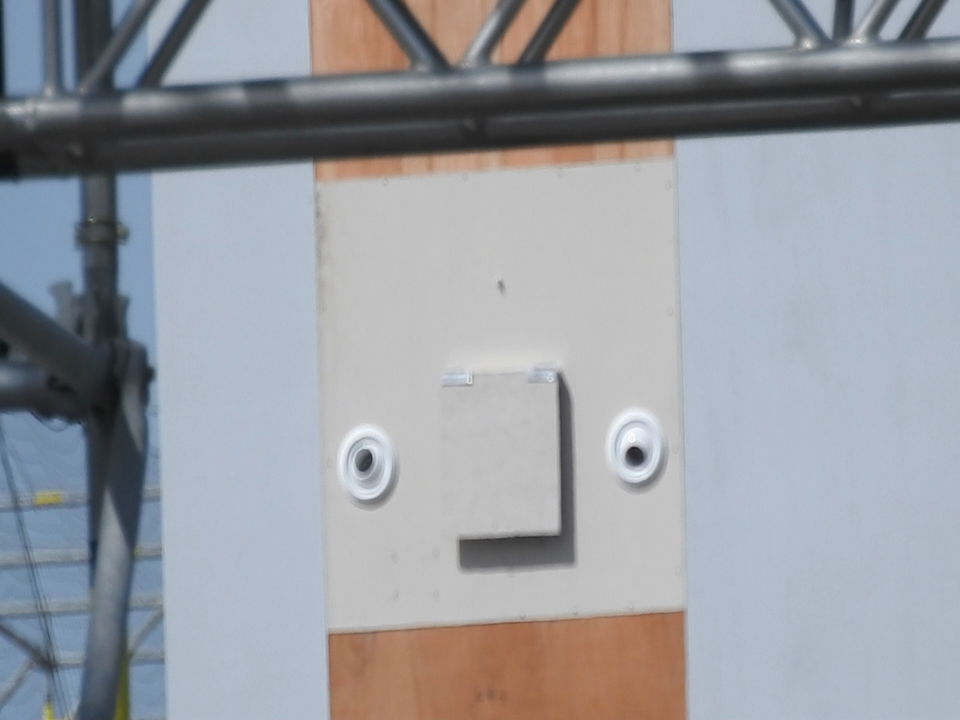facade: (338, 363, 663, 543)
